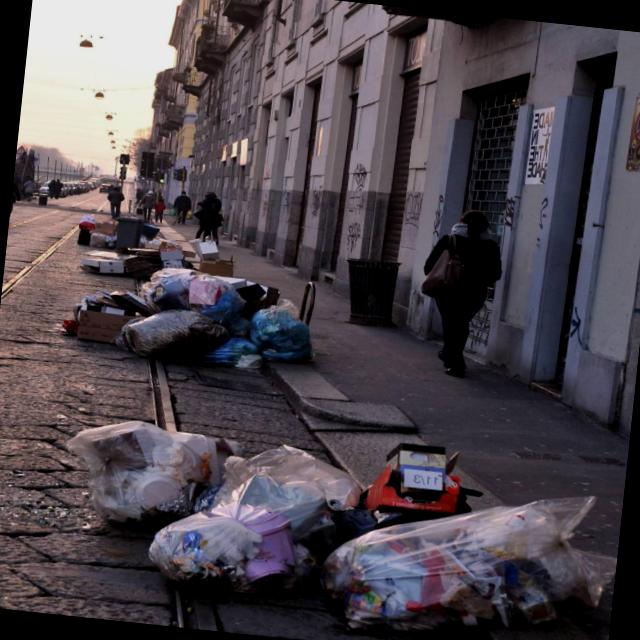garbage: (43, 399, 613, 640), (40, 240, 340, 384)
